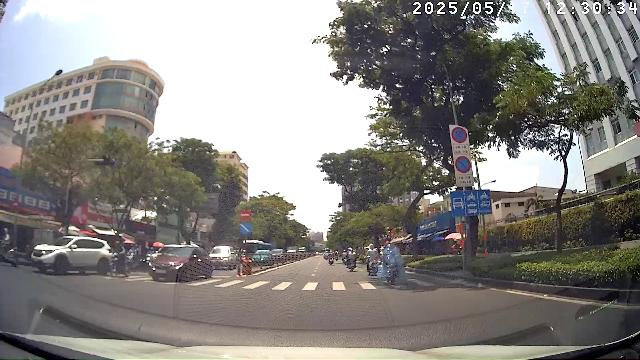102-cam-di-nguoc-chieu: (239, 209, 253, 221)
130-cam-dung-va-do-xe: (451, 126, 467, 144)
131a-cam-do-xe: (455, 156, 471, 172)
302a-huong-phai-di-vong-chuong-ngai-vat-1: (238, 222, 252, 234)
